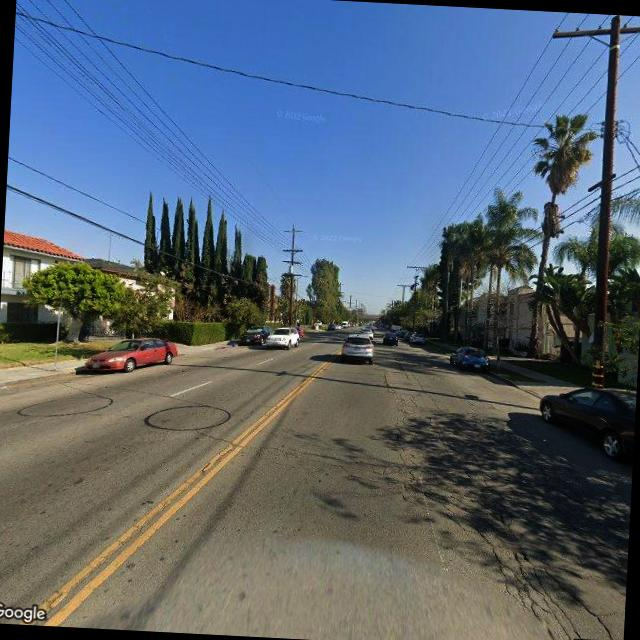crack: (368, 370, 618, 640), (185, 418, 368, 472)
